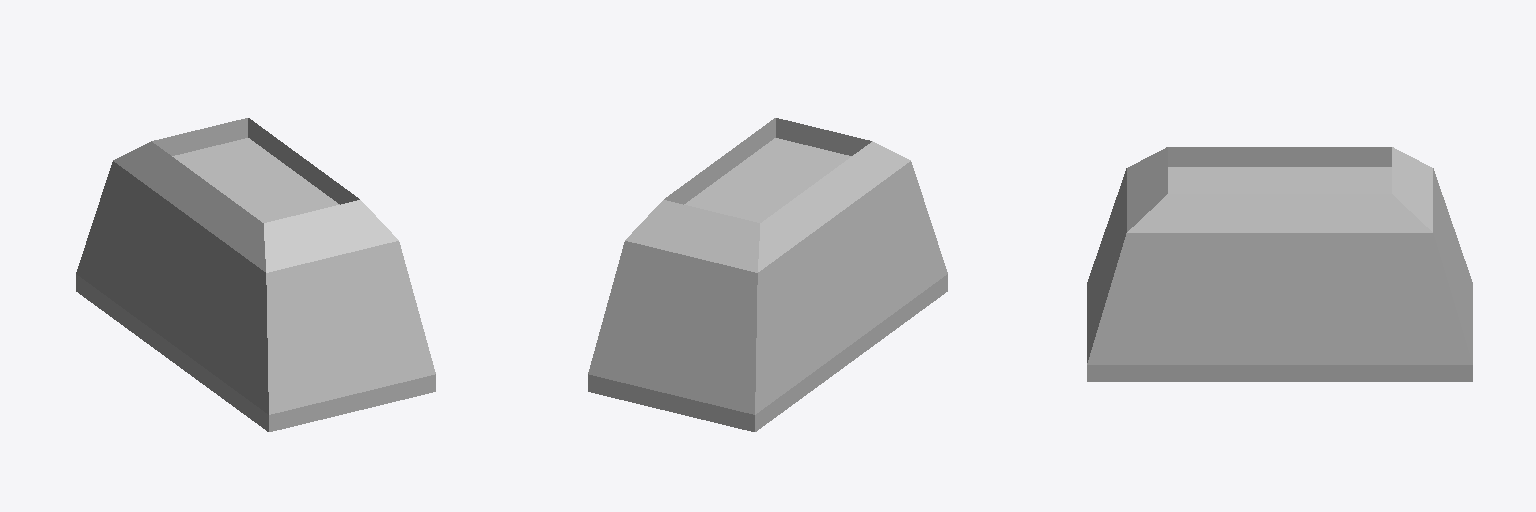
The model's file is wallunit.obj.
The picture shows the model from 3 angles: view 1: azimuth 30°, elevation 25°; view 2: azimuth 150°, elevation 25°; view 3: azimuth 270°, elevation 25°; orthographic projection.
Parts seen in each view (by area): view 1: Cube; view 2: Cube; view 3: Cube.
Boxes of the visible parts, box(x1,y1,x2,y2) form: Cube: box(76, 118, 435, 431); Cube: box(588, 118, 947, 431); Cube: box(1087, 147, 1472, 381).
Size of the model in its own units: 2.52 by 2.46 by 5.03.